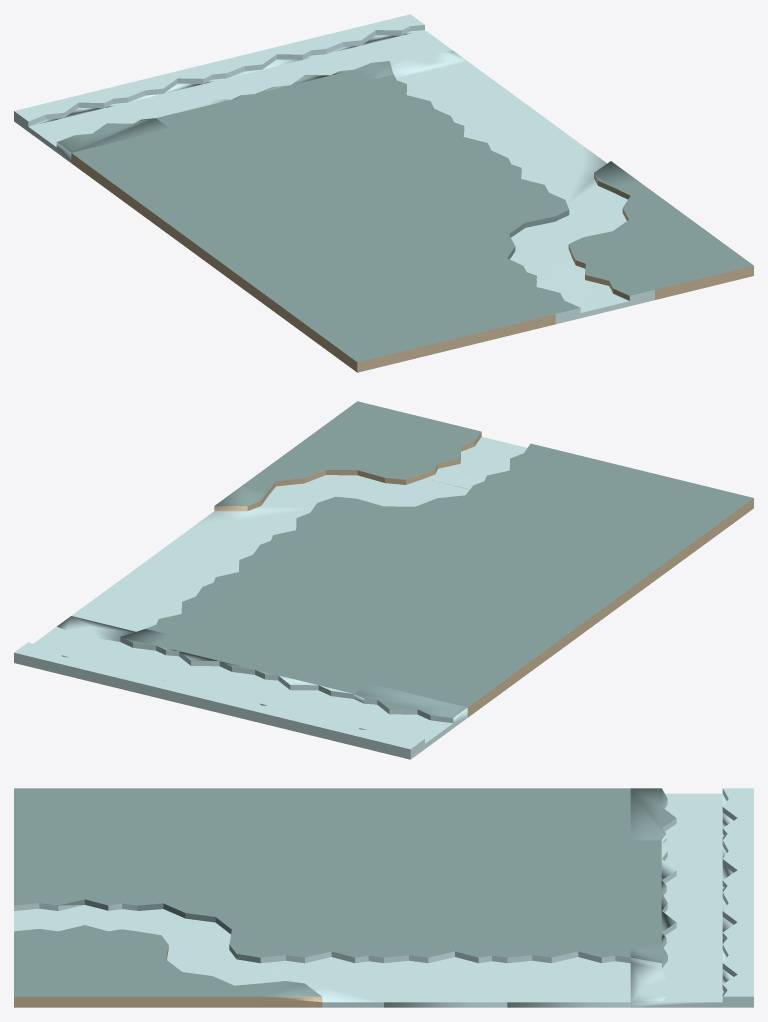
The model's file is Level1.fbx.
The picture shows the model from 3 angles, top to bottom: view 1: azimuth 30°, elevation 25°; view 2: azimuth 150°, elevation 25°; view 3: azimuth 270°, elevation 25°; orthographic projection. The views are drawn at different scales.
Visible parts, largest first — view 1: Mesh1 Plate_River_Dirt Model.006; view 2: Mesh1 Plate_River_Dirt Model.006; view 3: Mesh1 Plate_River_Dirt Model.006.
Part boxes in pixels (x1,y1,x2,y2): Mesh1 Plate_River_Dirt Model.006: (14,14,753,372); Mesh1 Plate_River_Dirt Model.006: (14,401,753,759); Mesh1 Plate_River_Dirt Model.006: (14,788,753,1007).
Size of the model in its own units: 1200 by 30.1 by 1800.
